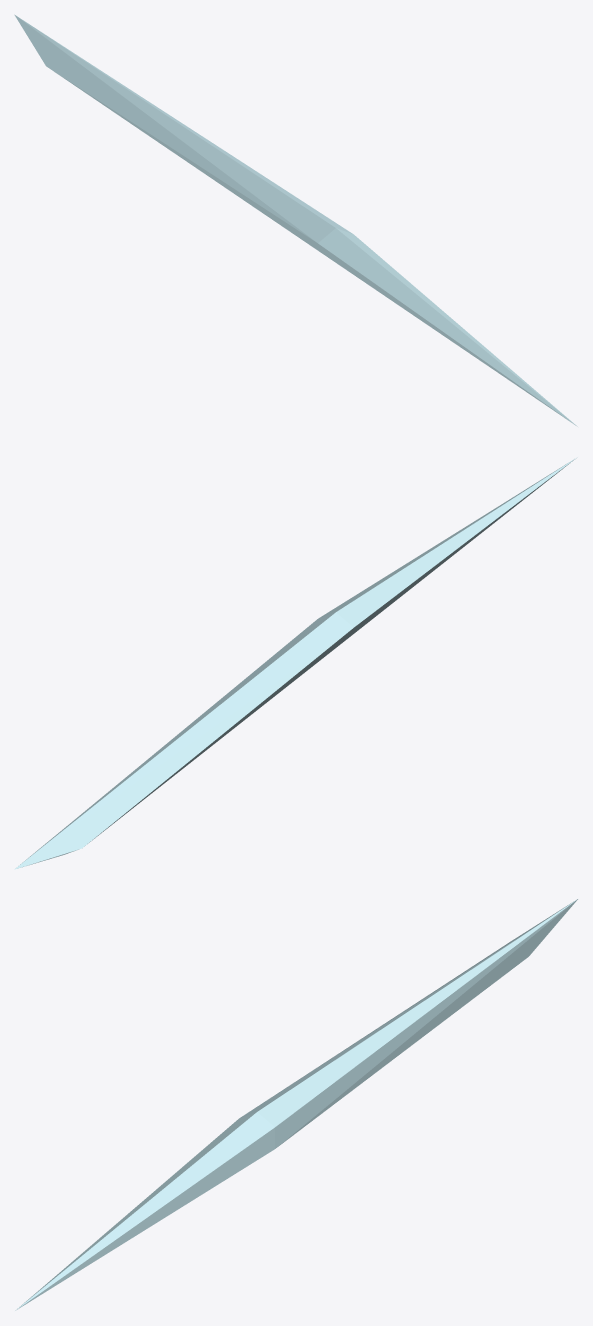
Rendered from Collection 2.fbx.
The picture shows the model from 3 angles, top to bottom: view 1: azimuth 30°, elevation 25°; view 2: azimuth 150°, elevation 25°; view 3: azimuth 330°, elevation 25°; orthographic projection.
Visible parts, largest first — view 1: RainSharpParticle01; view 2: RainSharpParticle01; view 3: RainSharpParticle01.
Part boxes in pixels (x1,y1,x2,y2): RainSharpParticle01: (14,14,577,426); RainSharpParticle01: (14,457,577,869); RainSharpParticle01: (15,899,577,1310).
Bounding box in the file's own units: 0.2763 × 0.3191 × 7.49.
